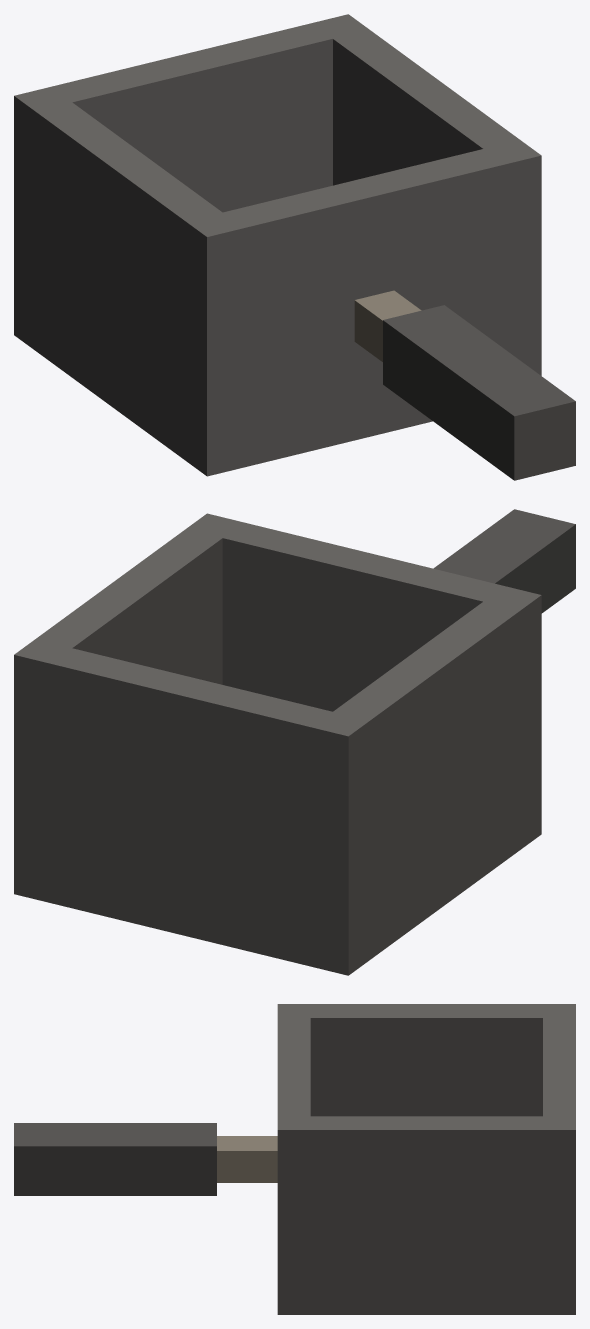
Rendered from SD_Prop_Pot_01.fbx.
The picture shows the model from 3 angles, top to bottom: view 1: azimuth 30°, elevation 25°; view 2: azimuth 150°, elevation 25°; view 3: azimuth 270°, elevation 25°; orthographic projection. The views are drawn at different scales.
Visible parts, largest first — view 1: SD_Prop_Pot_01; view 2: SD_Prop_Pot_01; view 3: SD_Prop_Pot_01.
Boxes of the visible parts, bbox=[...] form: SD_Prop_Pot_01: bbox=[14, 14, 575, 480]; SD_Prop_Pot_01: bbox=[14, 509, 575, 975]; SD_Prop_Pot_01: bbox=[14, 1004, 575, 1314].
Bounding box in the file's own units: 0.6149 × 0.4205 × 1.16.
